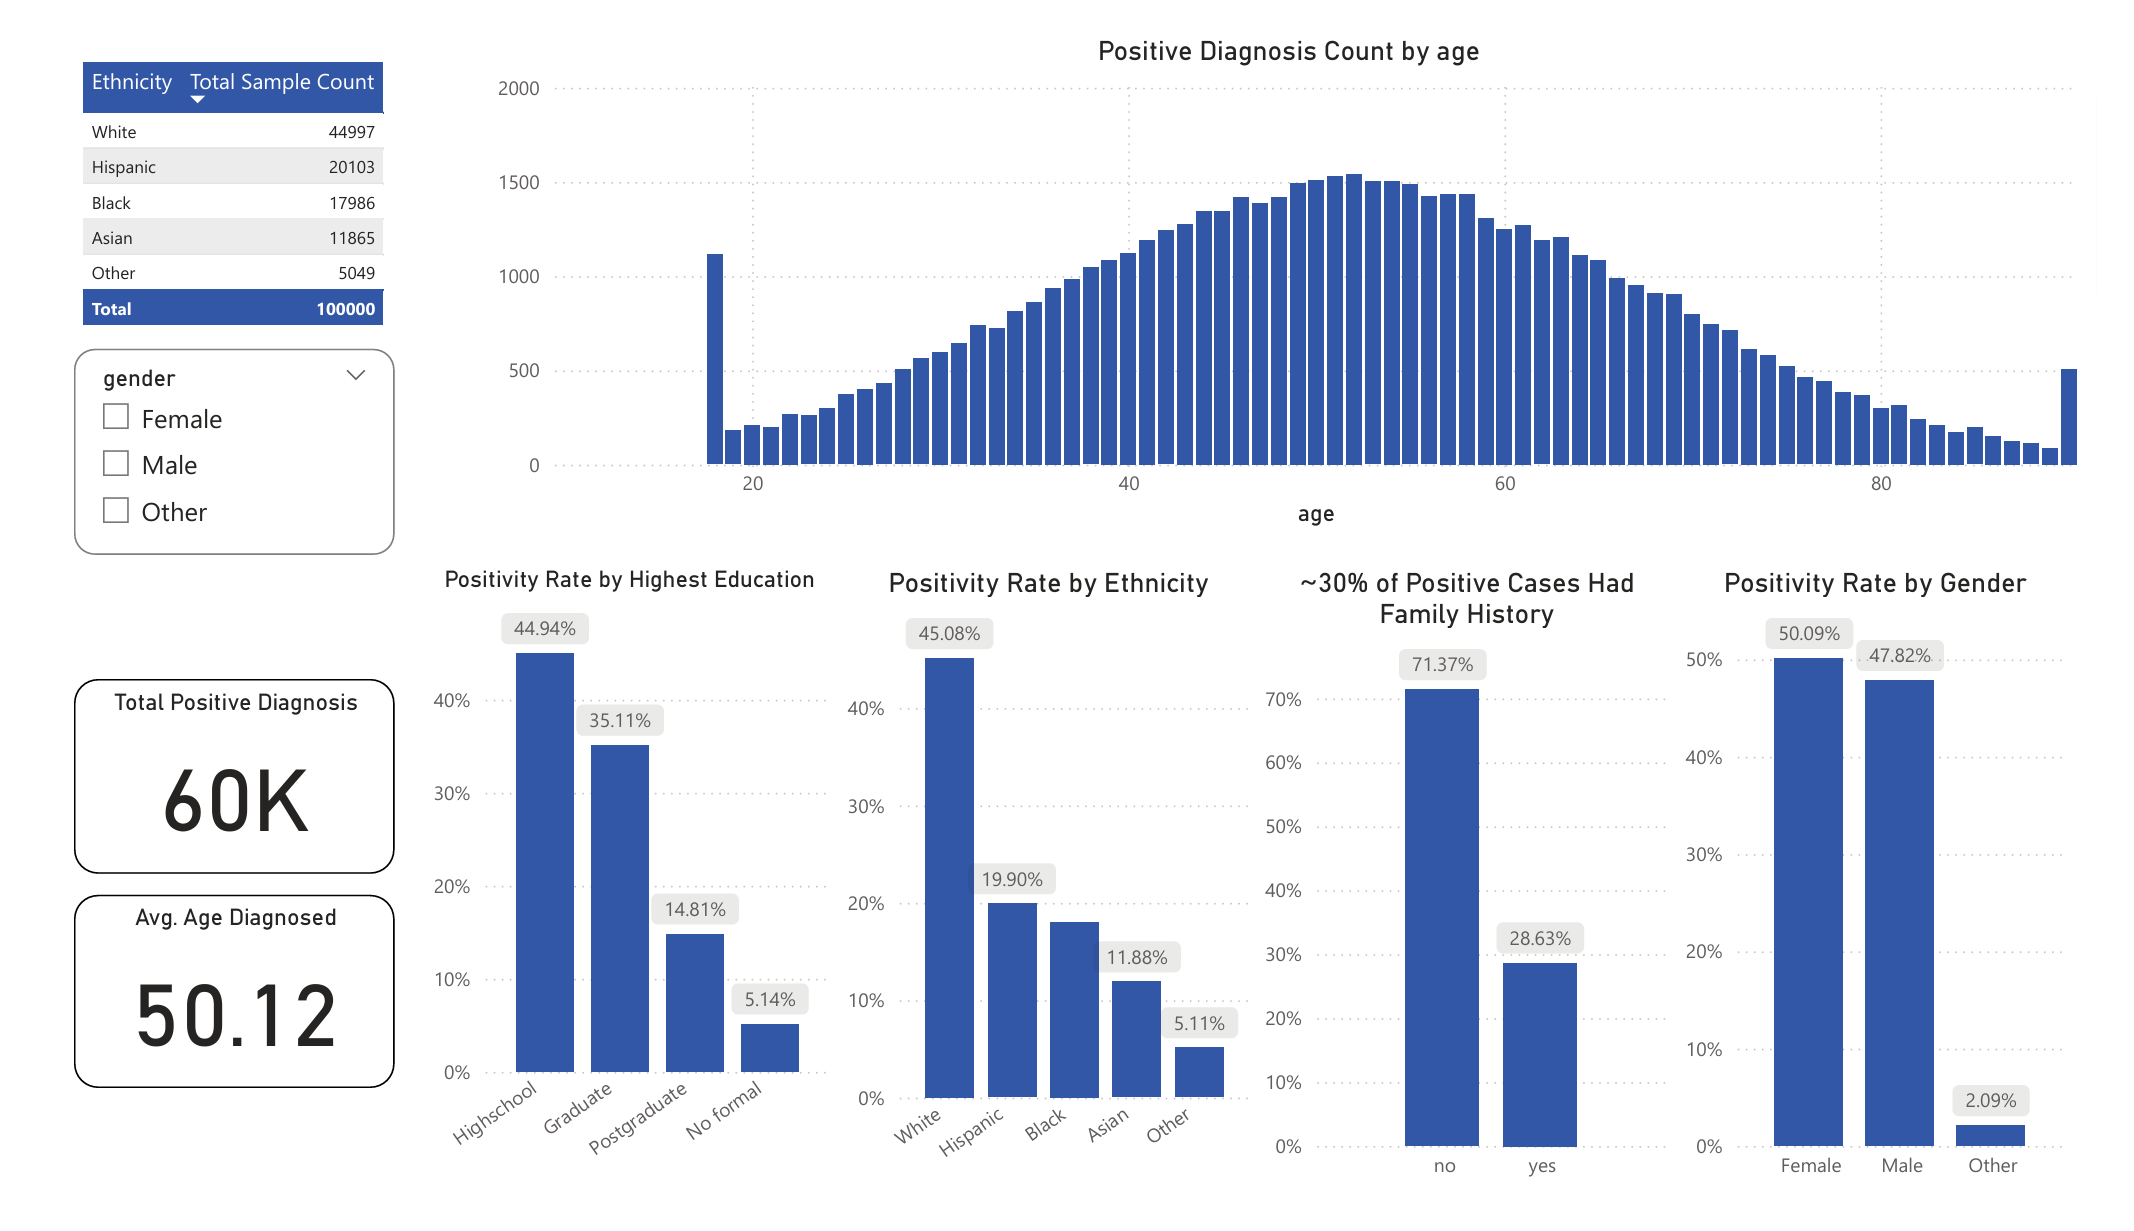

This screenshot's page, from the dashboard's own definition file:
{"tool":"powerbi","page":{"name":"positivity analysis","canvas":[1280,720],"ordinal":0},"visuals":[{"type":"card","title":"Avg. Age Diagnosed","fields":{"Values":["Avg(diabetes_dataset.age)"]},"box":[24.7,533.5,199.3,120.1],"z":0},{"type":"clusteredColumnChart","title":"Positivity Rate by Gender","fields":{"Category":["diabetes_dataset.gender"],"Y":["diabetes_dataset.Positive Diagnosis Count"]},"box":[1019.7,330.4,246.7,389.5],"z":1000},{"type":"clusteredColumnChart","title":"Positivity Rate by Ethnicity","fields":{"Category":["diabetes_dataset.ethnicity"],"Y":["Divide(diabetes_dataset.Positive Diagnosis Count, ScopedEval(diabetes_dataset.Positive Diagnosis Count, []))"]},"box":[499.8,330.4,260.3,389.5],"z":2000},{"type":"clusteredColumnChart","fields":{"Category":["diabetes_dataset.age"],"Y":["diabetes_dataset.Positive Diagnosis Count"]},"box":[283,0,991.8,310.3],"z":3000},{"type":"slicer","fields":{"Values":["diabetes_dataset.gender"]},"box":[24.7,195.4,199.3,127.2],"z":4000},{"type":"clusteredColumnChart","title":"Positivity Rate by Highest Education","fields":{"Category":["diabetes_dataset.education_level"],"Y":["diabetes_dataset.Positive Diagnosis Count"]},"box":[240.2,330.4,259.6,389.5],"z":5000},{"type":"card","title":"Total Positive Diagnosis","fields":{"Values":["diabetes_dataset.Positive Diagnosis Count"]},"box":[24.7,400.5,199.3,120.1],"z":6000},{"type":"clusteredColumnChart","title":"~30% of Positive Cases Had Family History","fields":{"Category":["diabetes_dataset.family_history_diabetes"],"Y":["diabetes_dataset.Positive Diagnosis Count"]},"box":[759.4,330.4,260.3,389.5],"z":7000},{"type":"tableEx","title":"Total Tested Ethnicity Sample Variance","fields":{"Values":["diabetes_dataset.ethnicity","Divide(CountNonNull(diabetes_dataset.diagnosed_diabetes), ScopedEval(CountNonNull(diabetes_dataset.diagnosed_diabetes), "]},"box":[24.7,12.3,202.5,175.9],"z":8000}]}

Visuals, with their boxes in screenshot pixels (x1, y1, x2, y2), scaled from the page's 1280x720 canvas onto the 2134x1231 screenshot:
"Avg. Age Diagnosed" card: <region>41, 912, 373, 1117</region>
"Positivity Rate by Gender" clusteredColumnChart: <region>1700, 565, 2111, 1230</region>
"Positivity Rate by Ethnicity" clusteredColumnChart: <region>833, 565, 1267, 1230</region>
clusteredColumnChart - diabetes_dataset.age x diabetes_dataset.Positive Diagnosis Count: <region>472, 0, 2125, 531</region>
slicer - diabetes_dataset.gender: <region>41, 334, 373, 552</region>
"Positivity Rate by Highest Education" clusteredColumnChart: <region>400, 565, 833, 1230</region>
"Total Positive Diagnosis" card: <region>41, 685, 373, 890</region>
"~30% of Positive Cases Had Family History" clusteredColumnChart: <region>1266, 565, 1700, 1230</region>
"Total Tested Ethnicity Sample Variance" tableEx: <region>41, 21, 379, 322</region>
